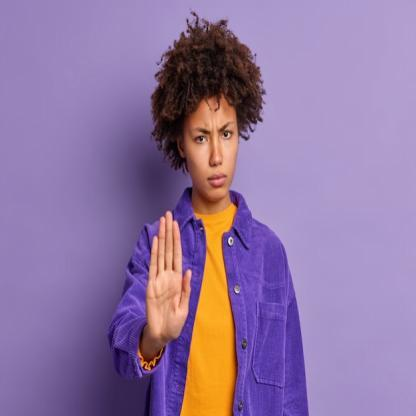stop: (144, 208, 196, 343)
